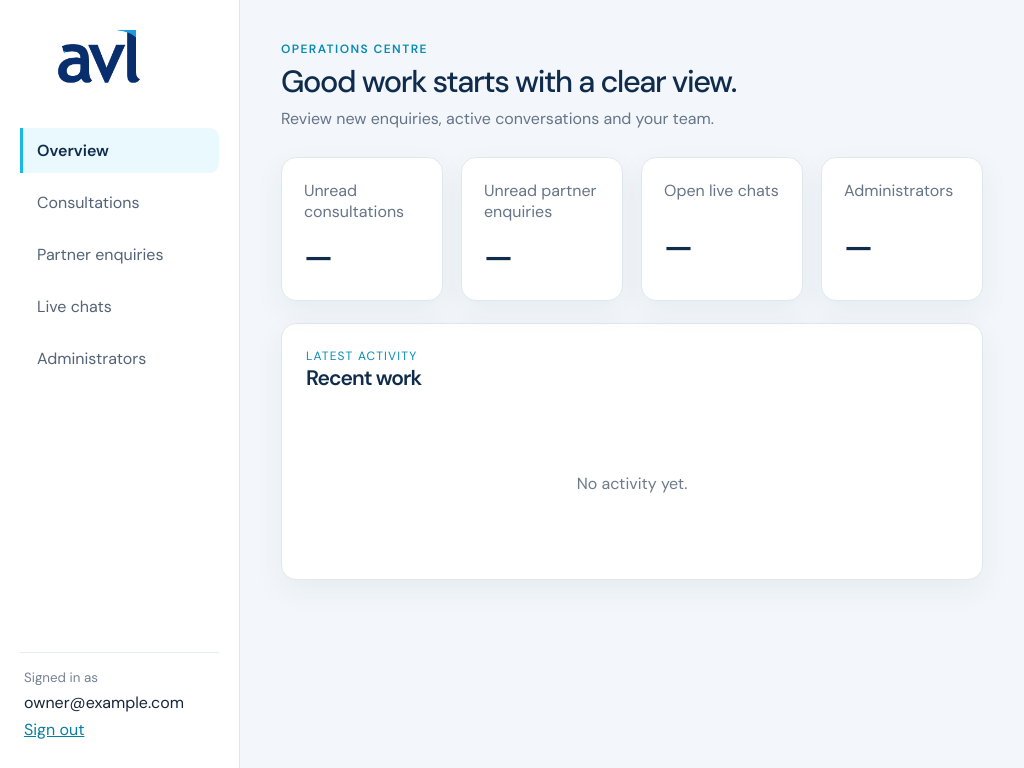
AVL routed website › removes protected content when a queue request reports an expired session
The image size is (1024, 768).
Click the button "Consultations". click: (120, 202)
box: [20,180,219,225]
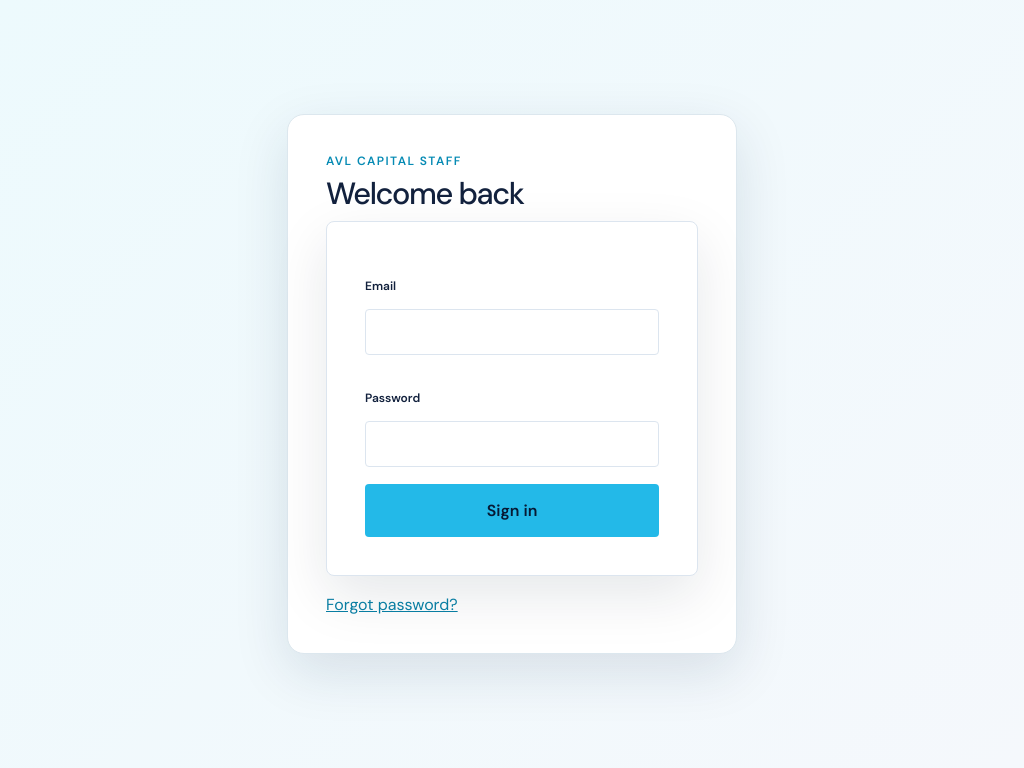
Result: the heading "Welcome back" is shown at [326,174,524,214]
Result: the text "owner@example.com" is gone
